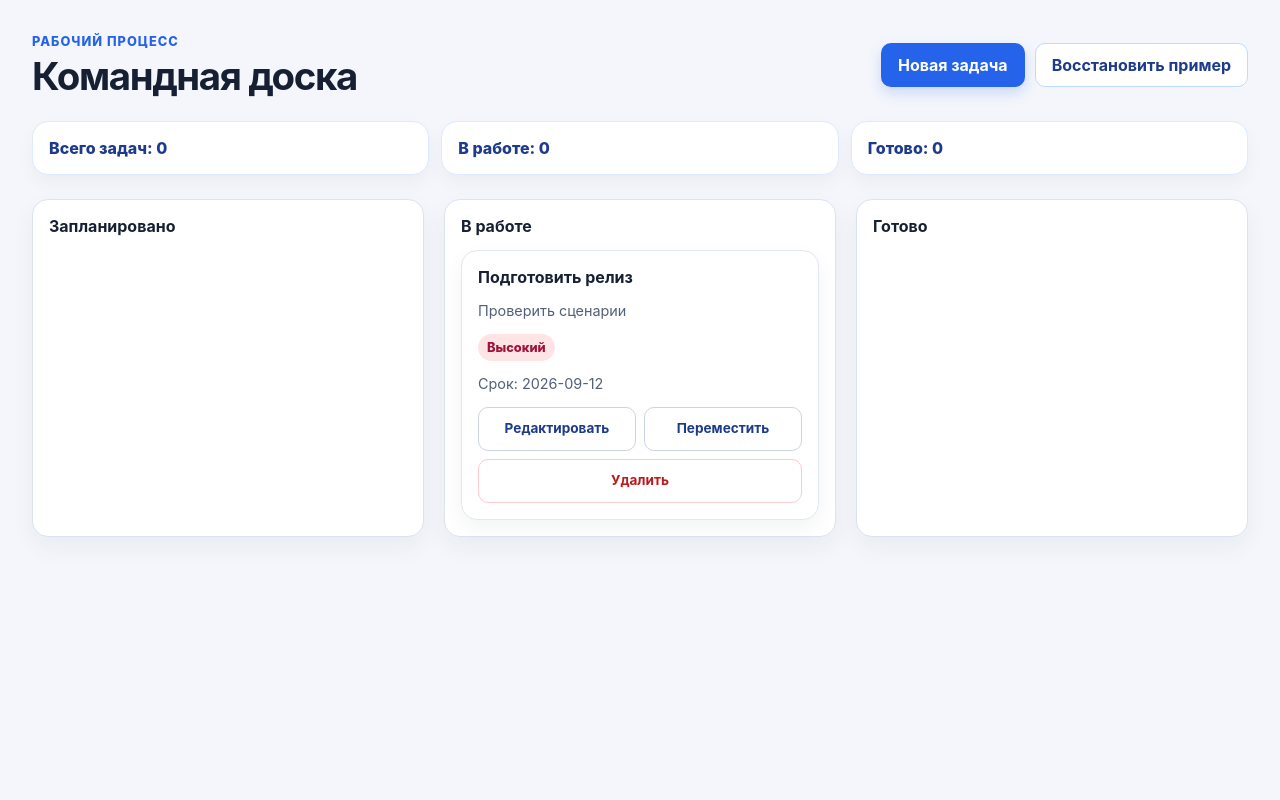
App › clears an existing due date when editing a task
Expected: the heading "Подготовить релиз" is shown, [478, 267, 633, 287]
Click the button with aria-label "Редактировать: Подготовить релиз". click: (557, 429)
box: [478, 407, 636, 451]
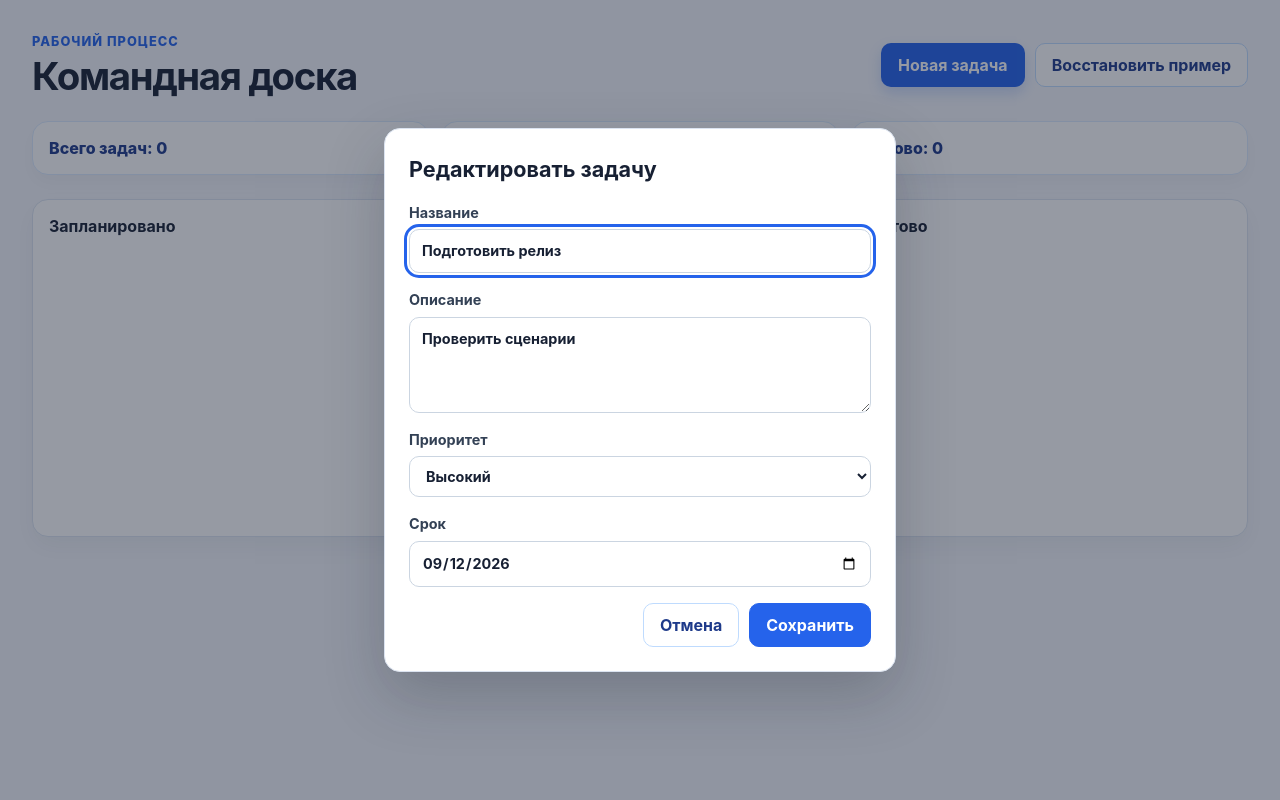
Clear the date field labelled "Срок". click: (640, 564)
box: [409, 541, 871, 586]
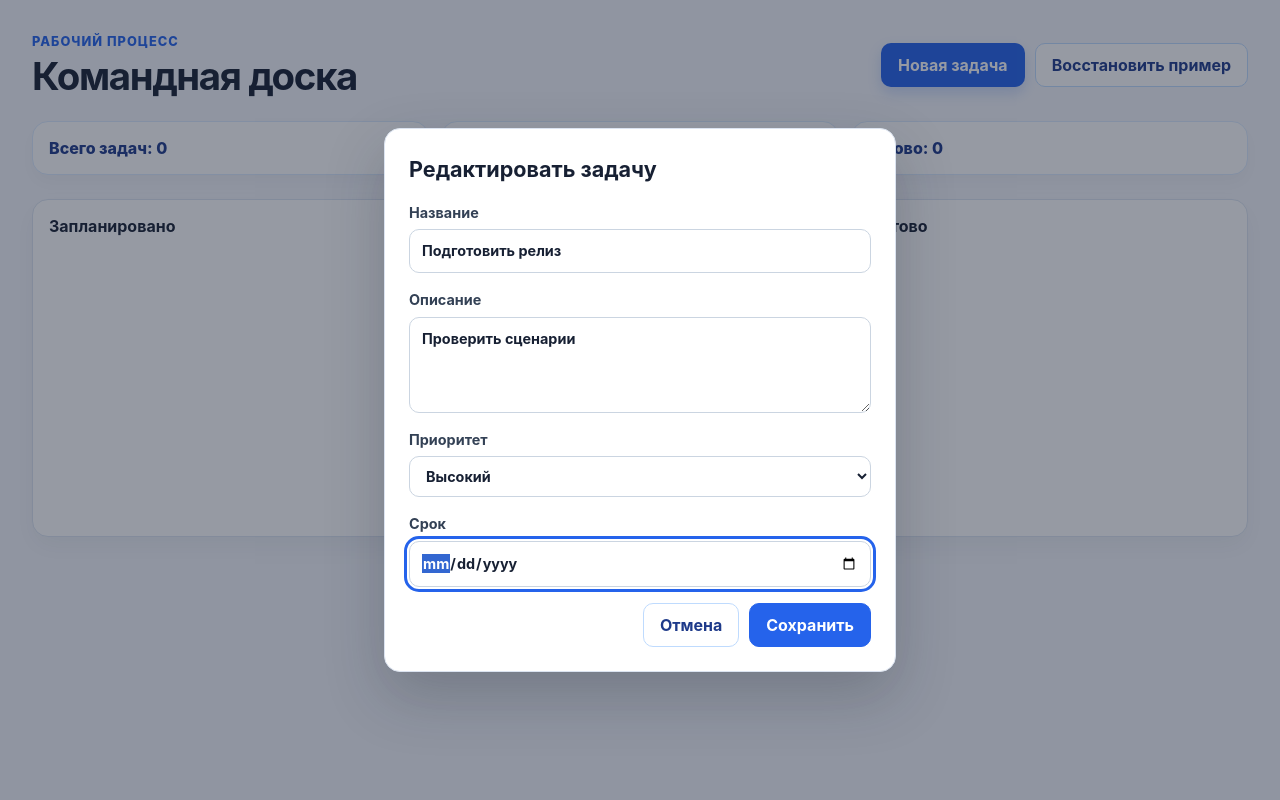
Click the button "Сохранить". click: (810, 624)
box: [749, 602, 871, 646]
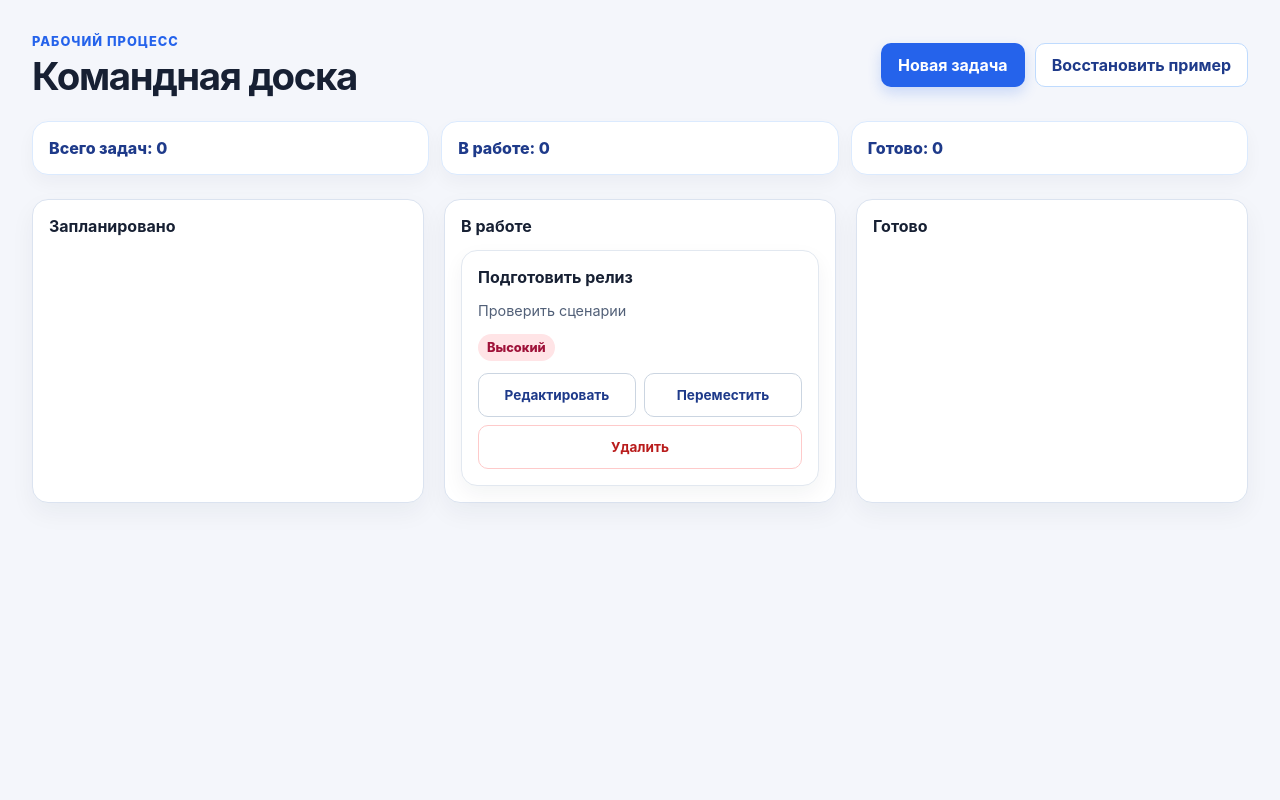
Expected: the heading "Подготовить релиз" is shown, [478, 267, 633, 287]
Now the text "Срок: 2026-09-12" is gone
